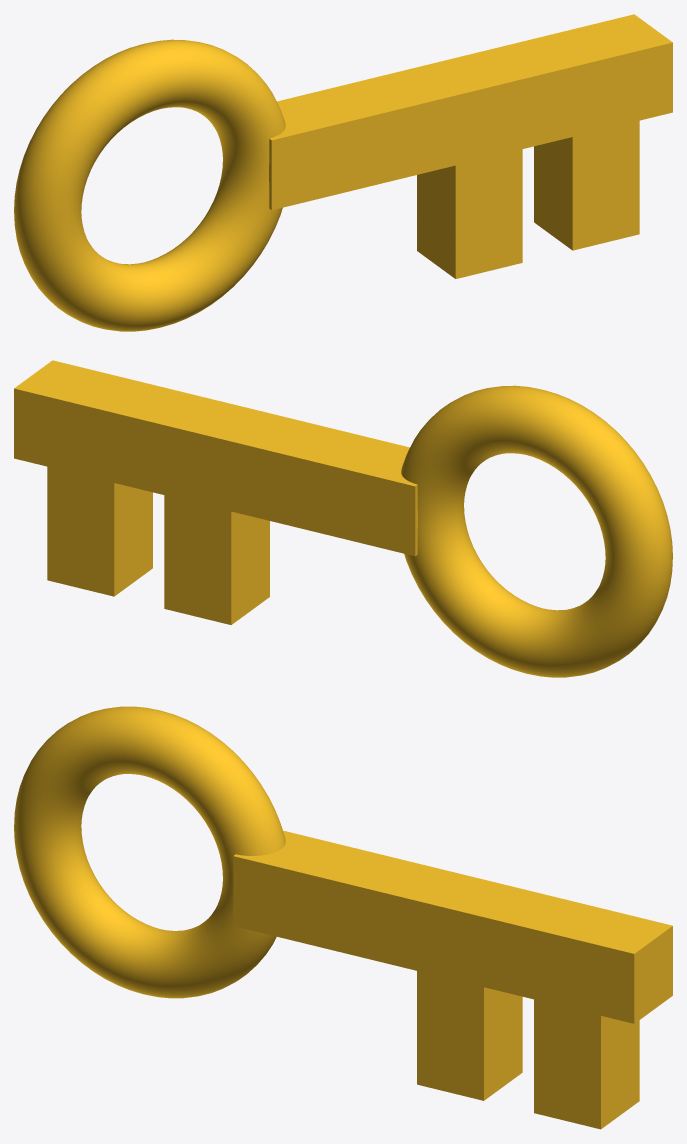
File: passaporte_chave.glb
3 renders of one model, top to bottom at view 1: azimuth 30°, elevation 25°; view 2: azimuth 150°, elevation 25°; view 3: azimuth 330°, elevation 25°, orthographic.
Visible parts, largest first — view 1: _MeshInstance3D_689_3, _MeshInstance3D_690_2, _MeshInstance3D_692_0, _MeshInstance3D_691_1; view 2: _MeshInstance3D_689_3, _MeshInstance3D_690_2, _MeshInstance3D_691_1, _MeshInstance3D_692_0; view 3: _MeshInstance3D_689_3, _MeshInstance3D_690_2, _MeshInstance3D_691_1, _MeshInstance3D_692_0.
Part boxes in pixels (box(x1,y1,x2,y2)): _MeshInstance3D_689_3: box(14, 39, 285, 331); _MeshInstance3D_690_2: box(269, 14, 672, 210); _MeshInstance3D_692_0: box(417, 117, 522, 278); _MeshInstance3D_691_1: box(534, 85, 639, 250); _MeshInstance3D_689_3: box(401, 385, 672, 677); _MeshInstance3D_690_2: box(14, 360, 417, 556); _MeshInstance3D_691_1: box(47, 423, 152, 596); _MeshInstance3D_692_0: box(164, 451, 269, 624); _MeshInstance3D_689_3: box(14, 706, 285, 998); _MeshInstance3D_690_2: box(233, 830, 672, 1023); _MeshInstance3D_691_1: box(534, 956, 639, 1129); _MeshInstance3D_692_0: box(417, 927, 522, 1100).
Size of the model in its own units: 0.38 by 0.165 by 0.04.
